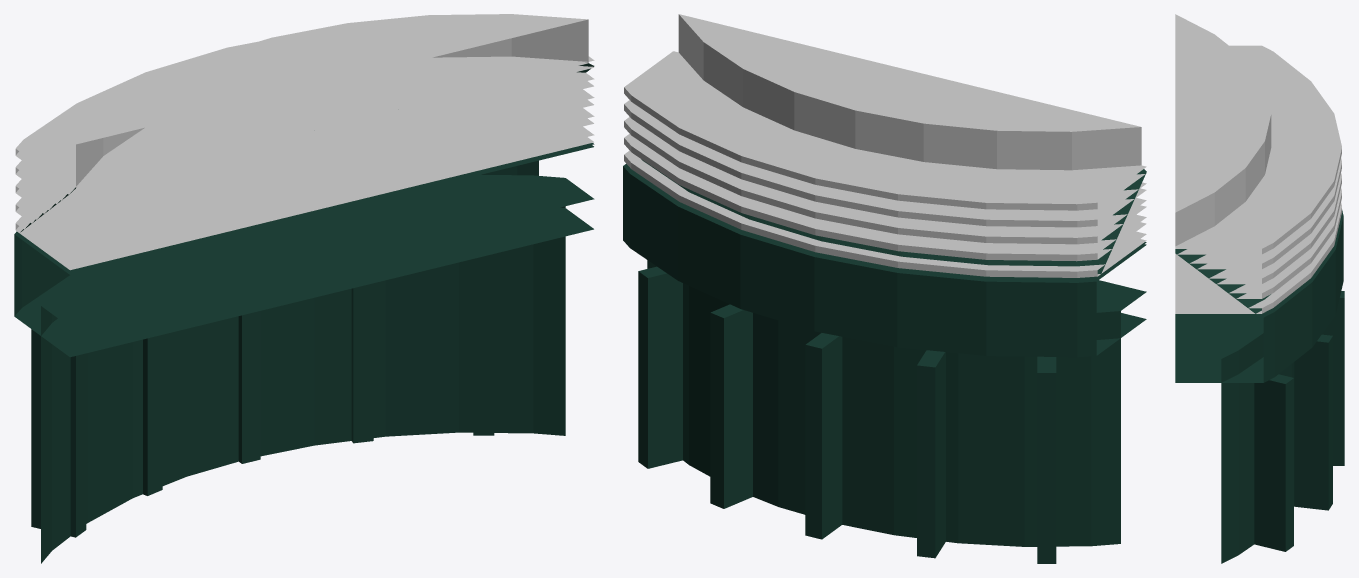
File: cell_46.obj
The picture shows the model from 3 angles, left to right: view 1: azimuth 30°, elevation 25°; view 2: azimuth 150°, elevation 25°; view 3: azimuth 270°, elevation 25°; orthographic projection. The views are drawn at different scales.
Bounding box in the file's own units: 1 × 0.8 × 0.3525.
